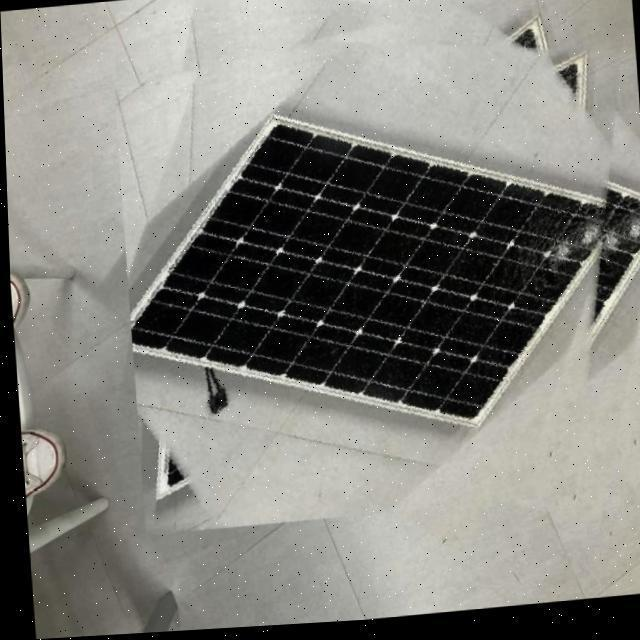Structural Damage: (521, 208, 640, 282)
